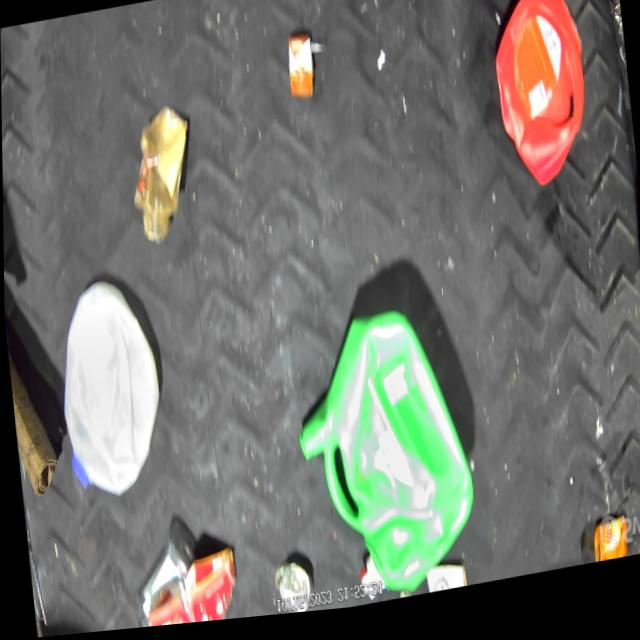can: (269, 556, 313, 620)
milk_jug: (46, 269, 169, 509)
non_white_jug: (283, 300, 481, 614), (482, 0, 596, 209)
